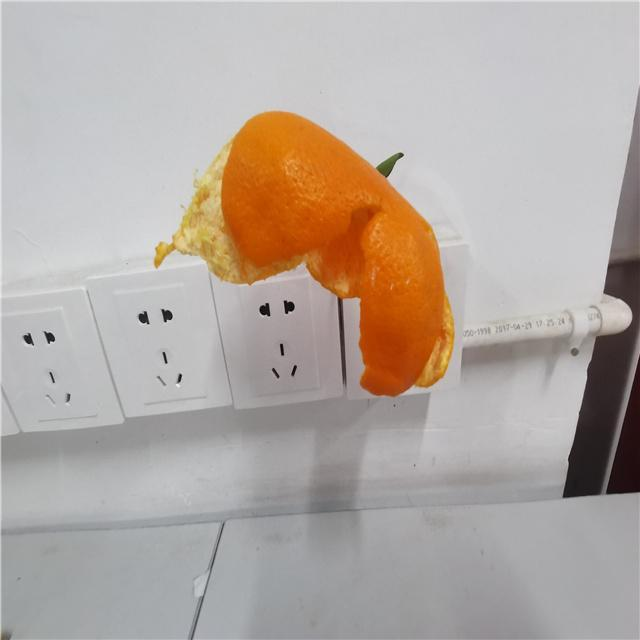orange-peel: (218, 108, 455, 397)
